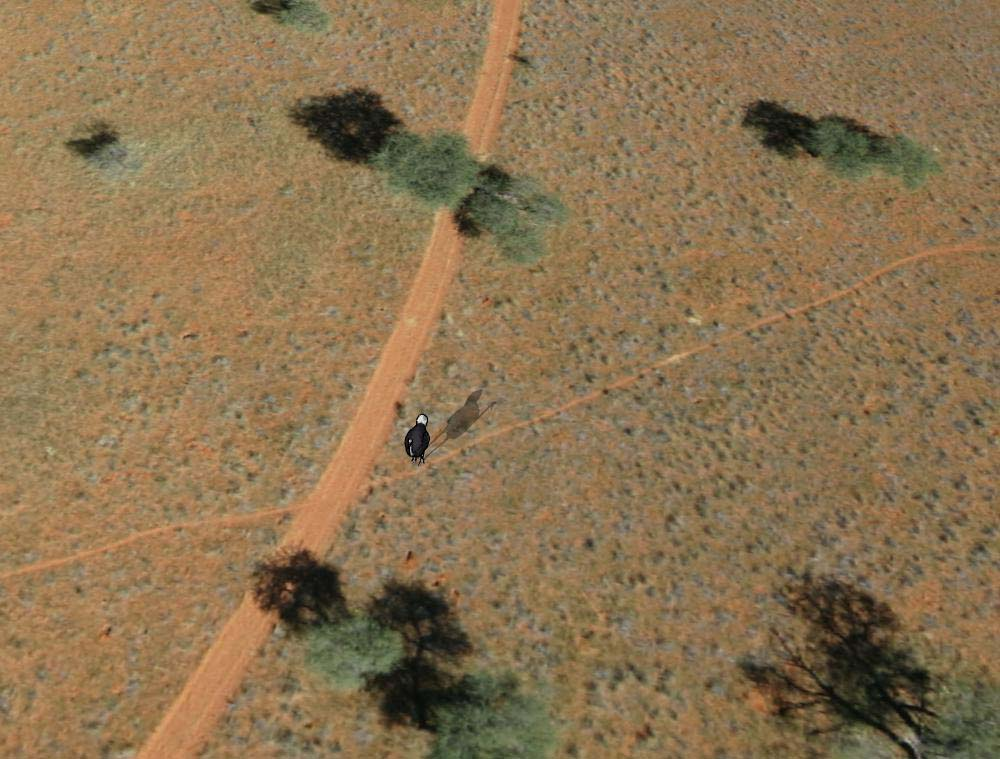springbok: (398, 413, 444, 465)
